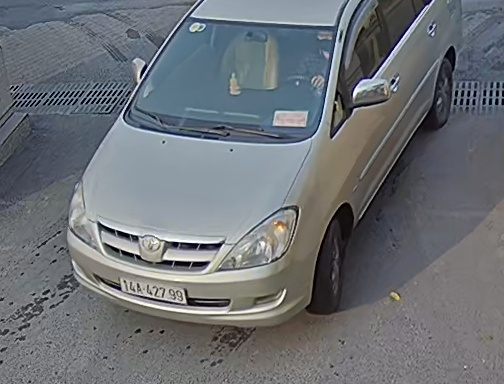vehicle plate: (116, 271, 188, 307)
